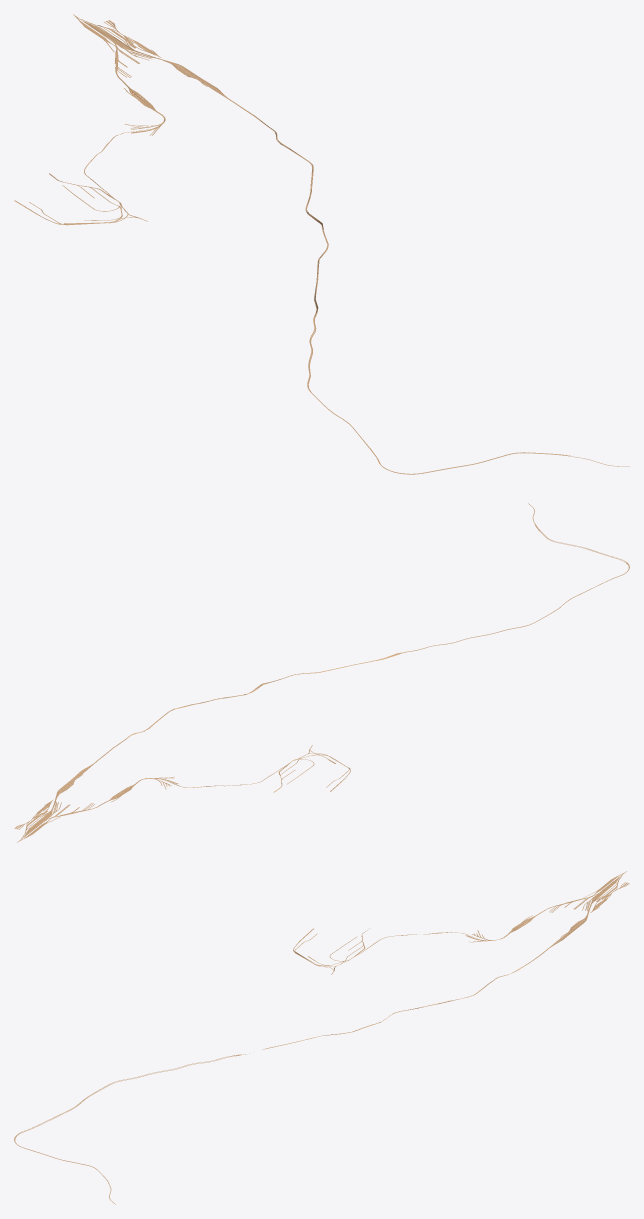
File: rail.glb
3 views of the same model, one above another, from view 1: azimuth 30°, elevation 25°; view 2: azimuth 150°, elevation 25°; view 3: azimuth 330°, elevation 25° (orthographic). The views are drawn at different scales.
Visible parts, largest first — view 1: rail; view 2: rail; view 3: rail.
Part boxes in pixels (x1,y1,x2,y2): rail: (14, 14, 629, 474); rail: (14, 503, 629, 842); rail: (14, 871, 629, 1204).
Bounding box in the file's own units: 2048 × 76.7 × 8055.
